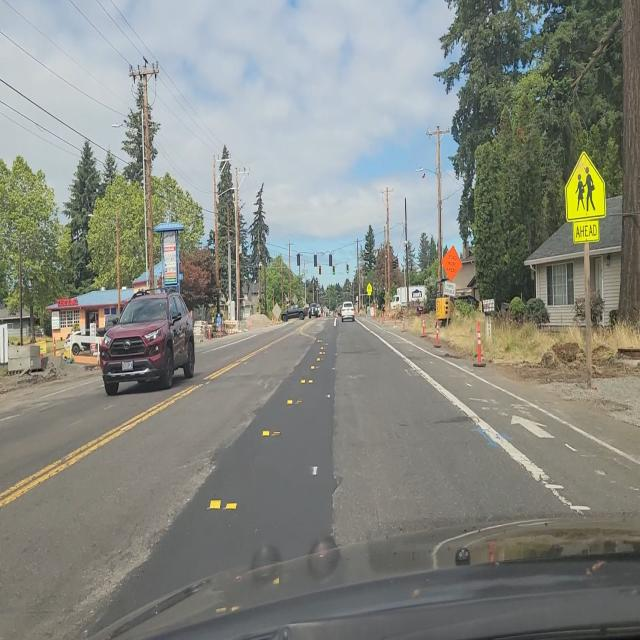car: (99, 286, 197, 393), (282, 306, 306, 322), (341, 301, 355, 323), (104, 315, 120, 334), (308, 304, 321, 319)
crosswalk-sign: (563, 154, 605, 245), (367, 283, 372, 295)
delineator: (472, 321, 486, 368), (434, 319, 440, 346), (489, 541, 495, 563), (421, 314, 426, 338), (402, 312, 406, 332), (393, 311, 397, 327), (207, 325, 211, 339), (53, 341, 56, 356), (374, 305, 377, 319), (379, 308, 382, 319), (372, 306, 375, 317), (272, 316, 276, 324), (248, 321, 251, 331), (382, 309, 384, 323)
